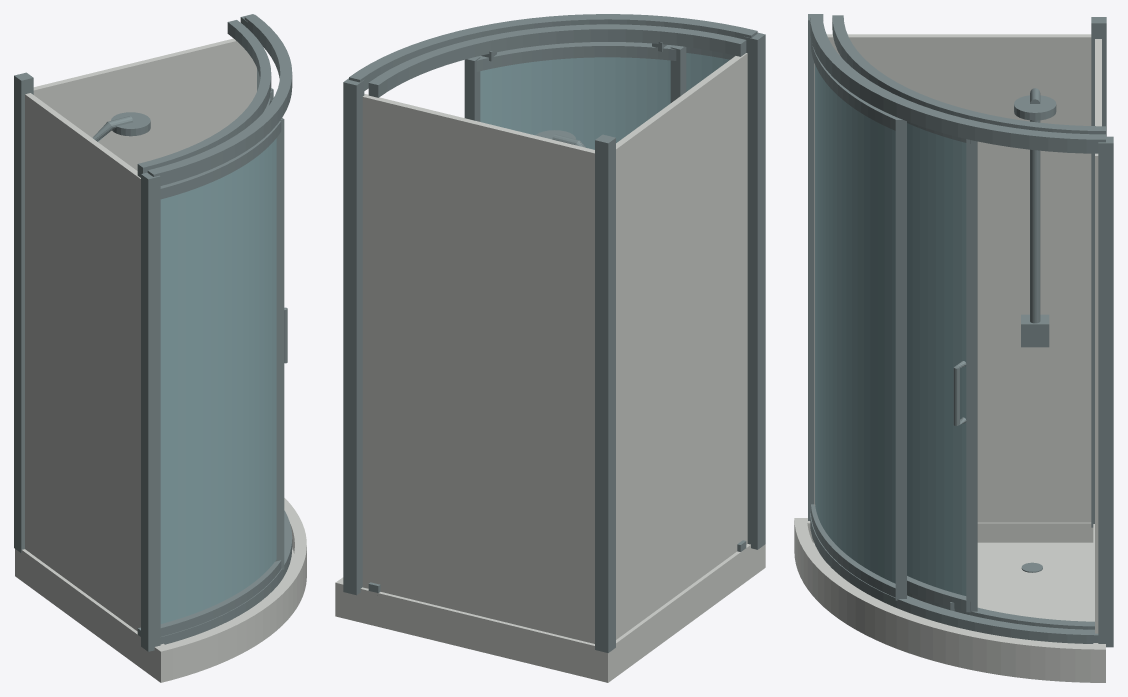
3 views of the same model, side by side, from view 1: azimuth 30°, elevation 25°; view 2: azimuth 150°, elevation 25°; view 3: azimuth 270°, elevation 25° (orthographic). The views are drawn at different scales.
Parts seen in each view (by area): view 1: WholeLeftRearPanel, FixedWholeOpaqueCurvedInfill, WholeRightRearPanel, WholeRecessedQuadrantTray, WholeUpright_SideJamb90, WholeUpright_RearCorner, WholeOuterUpperArcRail, FixedWholeEndStile_45, WholeInnerUpperArcRail, FixedWholeCurvedSashRail_0.174, WholeOuterLowerArcRail, FixedWholeCurvedSashRail_2.0 (+1 smaller); view 2: WholeRightRearPanel, WholeLeftRearPanel, WholeRecessedQuadrantTray, SlidingWholeOpaqueCurvedInfill, WholeUpright_RearCorner, WholeUpright_SideJamb0, WholeUpright_SideJamb90, WholeInnerUpperArcRail, WholeOuterUpperArcRail, SlidingWholeCurvedSashRail_2.0, SlidingWholeEndStile_30, FixedWholeOpaqueCurvedInfill (+1 smaller); view 3: WholeLeftRearPanel, FixedWholeOpaqueCurvedInfill, SlidingWholeOpaqueCurvedInfill, WholeRecessedQuadrantTray, WholeUpright_SideJamb0, WholeOuterUpperArcRail, FixedWholeEndStile_45, SlidingWholeEndStile_30, WholeOuterLowerArcRail, WholeInnerUpperArcRail, WholeUpright_SideJamb90, WholeUpright_RearCorner (+9 smaller).
Boxes of the visible parts, x1,y1,x2,y2 form: WholeLeftRearPanel: (25,93,140,631); FixedWholeOpaqueCurvedInfill: (160,138,276,623); WholeRightRearPanel: (33,38,256,170); WholeRecessedQuadrantTray: (15,498,306,682); WholeUpright_SideJamb90: (141,172,160,651); WholeUpright_RearCorner: (14,72,33,553); WholeOuterUpperArcRail: (147,14,292,185); FixedWholeEndStile_45: (275,118,284,569); WholeInnerUpperArcRail: (137,20,271,177); FixedWholeCurvedSashRail_0.174: (160,560,281,636); WholeOuterLowerArcRail: (160,510,292,644); FixedWholeCurvedSashRail_2.0: (160,121,281,199); WholeRightRearPanel: (362,94,594,643); WholeLeftRearPanel: (616,53,747,639); WholeRecessedQuadrantTray: (335,544,765,682); SlidingWholeOpaqueCurvedInfill: (480,57,670,149); WholeUpright_RearCorner: (595,134,615,652); WholeUpright_SideJamb0: (343,78,364,595); WholeUpright_SideJamb90: (744,32,765,549); WholeInnerUpperArcRail: (368,24,746,97); WholeOuterUpperArcRail: (349,14,757,90); SlidingWholeCurvedSashRail_2.0: (476,42,676,71); SlidingWholeEndStile_30: (464,56,480,121); FixedWholeOpaqueCurvedInfill: (686,53,729,91); WholeLeftRearPanel: (814,34,1091,522); FixedWholeOpaqueCurvedInfill: (815,65,895,583); SlidingWholeOpaqueCurvedInfill: (907,123,966,595); WholeRecessedQuadrantTray: (794,518,1105,682); WholeUpright_SideJamb0: (1098,136,1113,647); WholeOuterUpperArcRail: (810,14,1105,153); FixedWholeEndStile_45: (895,117,906,600); SlidingWholeEndStile_30: (966,139,977,612); WholeOuterLowerArcRail: (810,513,1098,643); WholeInnerUpperArcRail: (832,15,1105,134); WholeUpright_SideJamb90: (808,14,823,520); WholeUpright_RearCorner: (1091,17,1106,527).
Size of the model in its own units: 1.13 by 2.09 by 1.13.
